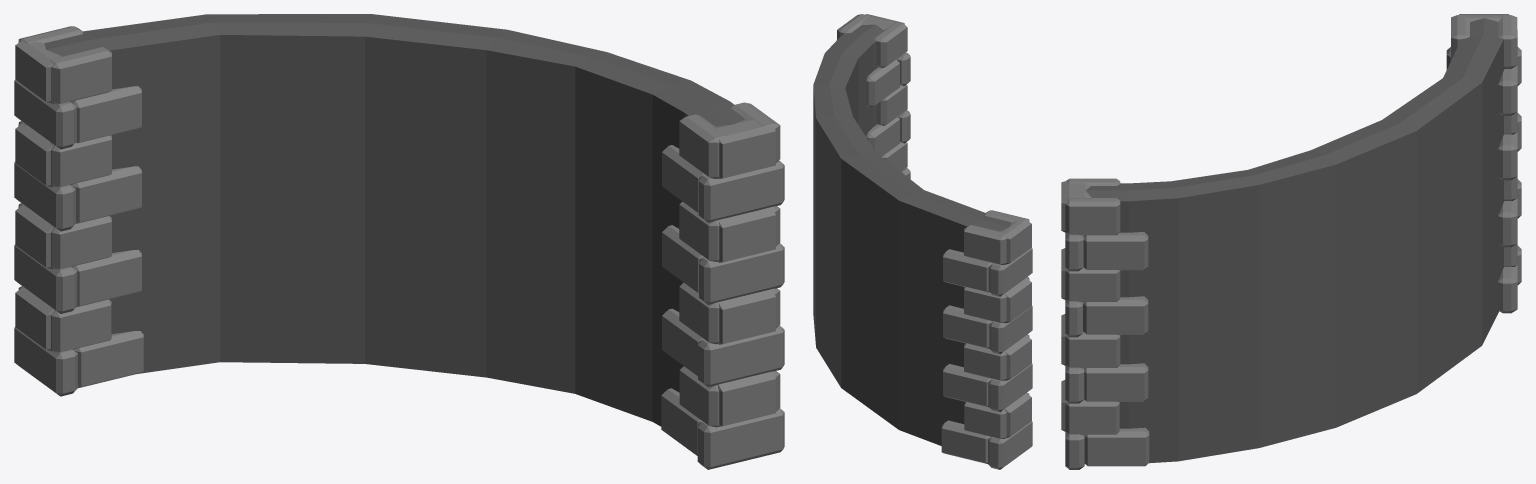
The model's file is DungeonWallRound.fbx.
The picture shows the model from 3 angles, left to right: view 1: azimuth 30°, elevation 25°; view 2: azimuth 150°, elevation 25°; view 3: azimuth 270°, elevation 25°; orthographic projection. The views are drawn at different scales.
Visible parts, largest first — view 1: DungeonWallRound; view 2: DungeonWallRound; view 3: DungeonWallRound.
Boxes of the visible parts, box(x1,y1,x2,y2) form: DungeonWallRound: box(14, 14, 784, 469); DungeonWallRound: box(813, 14, 1032, 469); DungeonWallRound: box(1061, 14, 1521, 469).
Bounding box in the file's own units: 555 × 353 × 555.
Materials: 1 (1 with a texture image).
